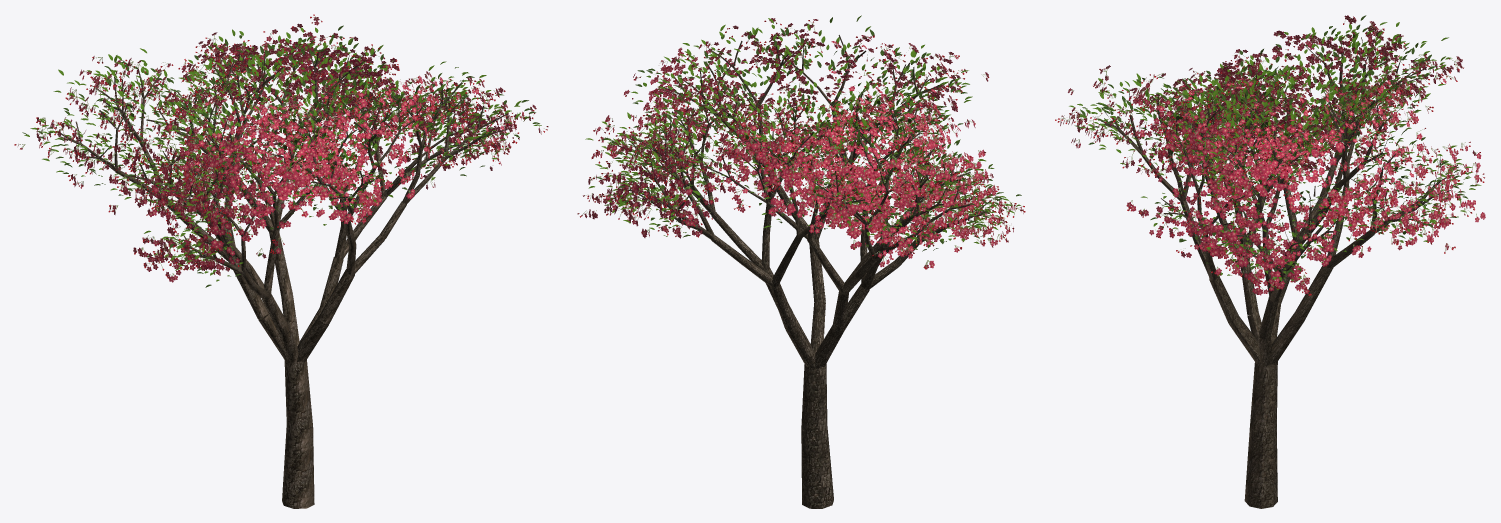
Rendered from yh_haitang.glb.
3 renders of one model, left to right at view 1: azimuth 30°, elevation 25°; view 2: azimuth 150°, elevation 25°; view 3: azimuth 270°, elevation 25°, orthographic.
Visible parts, largest first — view 1: yh_haitang_花叶, yh_haitang_树皮, yh_haitang_茎; view 2: yh_haitang_花叶, yh_haitang_树皮, yh_haitang_茎; view 3: yh_haitang_花叶, yh_haitang_树皮, yh_haitang_茎.
Part boxes in pixels (<box>): yh_haitang_花叶: <box>14,14,548,287</box>; yh_haitang_树皮: <box>58,46,510,508</box>; yh_haitang_茎: <box>19,16,544,276</box>; yh_haitang_花叶: <box>577,15,1025,269</box>; yh_haitang_树皮: <box>617,35,991,508</box>; yh_haitang_茎: <box>582,21,1022,266</box>; yh_haitang_花叶: <box>1055,15,1485,295</box>; yh_haitang_树皮: <box>1093,37,1457,508</box>; yh_haitang_茎: <box>1057,18,1480,290</box>.
Size of the model in its own units: 1.03 by 1 by 0.8937.
3 materials, 2 textured.
